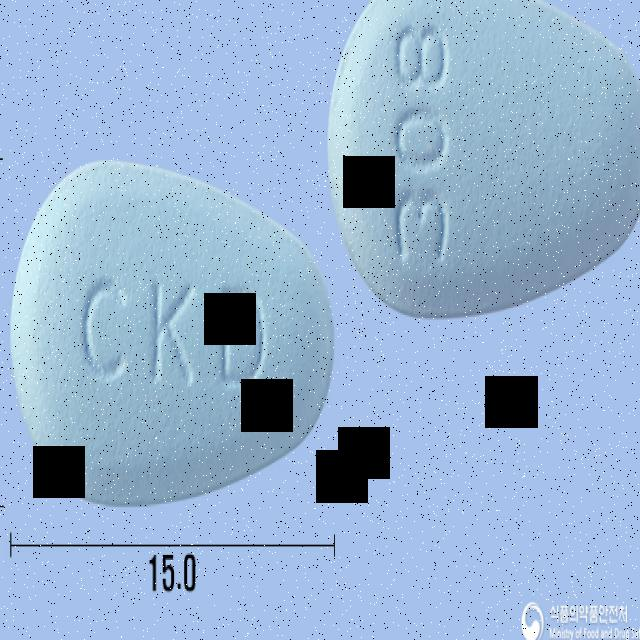Tenofobell Tab: (9, 154, 335, 508), (328, 0, 640, 320)
